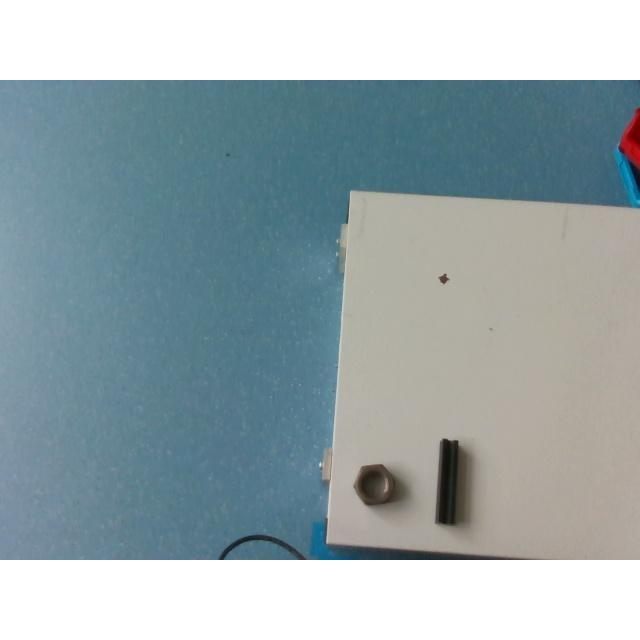F20_20_B: (434, 438, 460, 524)
M30: (352, 464, 396, 504)
